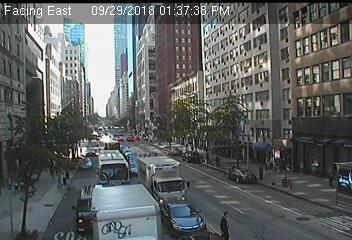car: (90, 184, 160, 240), (137, 157, 188, 210), (73, 186, 110, 236), (159, 201, 207, 237), (97, 150, 130, 196), (225, 166, 255, 184), (104, 140, 120, 158), (181, 151, 200, 163), (128, 162, 139, 177), (79, 158, 91, 171), (166, 147, 180, 156)
